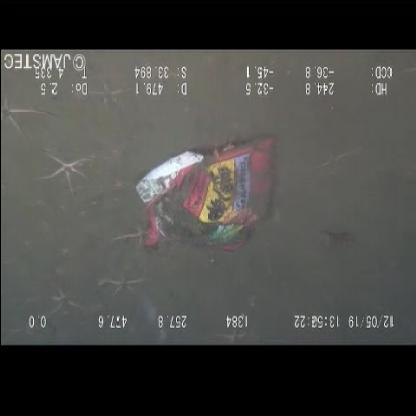Rác: (129, 122, 278, 256)
